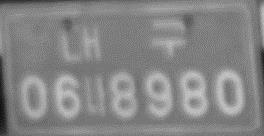0: (215, 68, 246, 117), (17, 74, 49, 120)
6: (52, 73, 82, 120)
8: (179, 69, 210, 119), (109, 70, 139, 120)
9: (144, 70, 173, 118)
나: (82, 73, 108, 118)
대구_D: (58, 16, 190, 66)
영: (9, 21, 52, 65)
